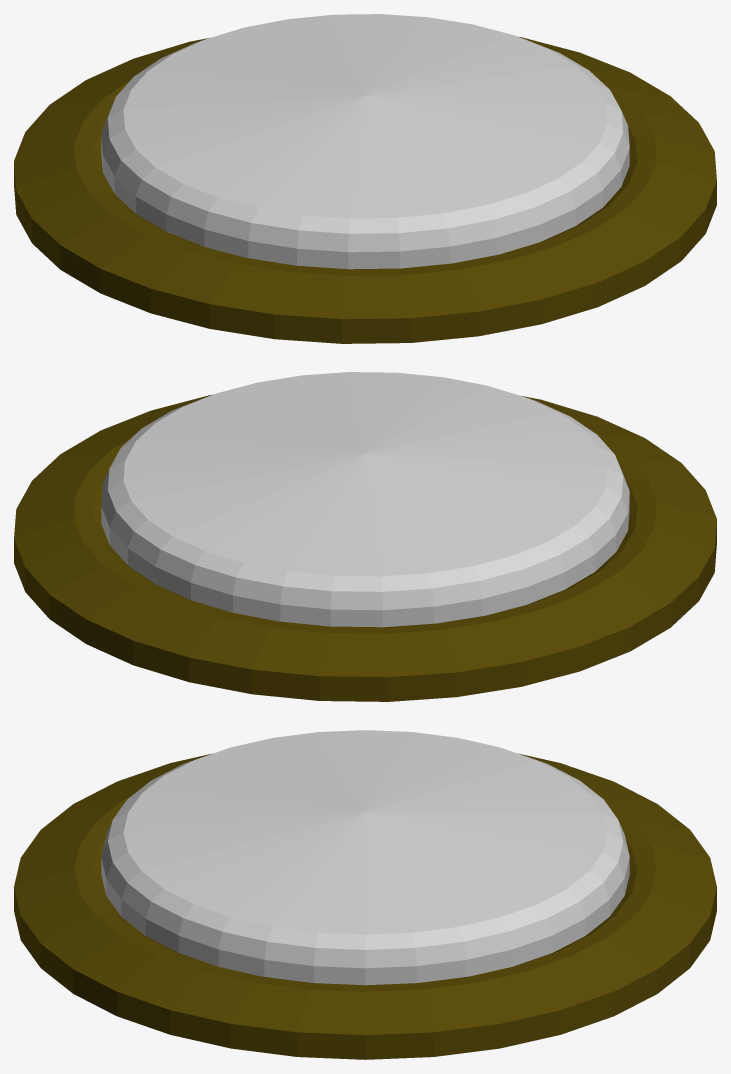
The model's file is FloorLamp.fbx.
3 renders of one model, top to bottom at view 1: azimuth 30°, elevation 25°; view 2: azimuth 150°, elevation 25°; view 3: azimuth 270°, elevation 25°, orthographic.
Parts seen in each view (by area): view 1: Circle; view 2: Circle; view 3: Circle.
Part boxes in pixels (left/top/right/bottom): Circle: left=14, top=14, right=716, bottom=343; Circle: left=14, top=372, right=716, bottom=701; Circle: left=14, top=730, right=716, bottom=1059.
Bounding box in the file's own units: 200 × 31.15 × 200.
